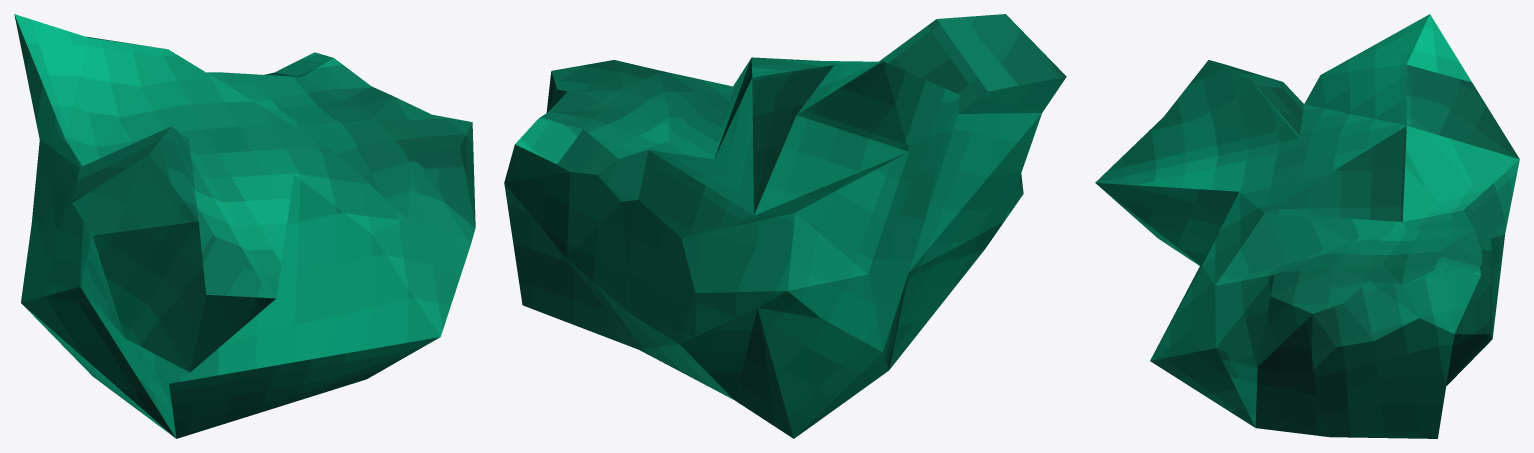
File: asteroid_large2.fbx
3 renders of one model, left to right at view 1: azimuth 30°, elevation 25°; view 2: azimuth 150°, elevation 25°; view 3: azimuth 270°, elevation 25°, orthographic. The views are drawn at different scales.
Visible parts, largest first — view 1: Cube; view 2: Cube; view 3: Cube.
Part boxes in pixels (left/top/right/bottom): Cube: left=14, top=14, right=475, bottom=438; Cube: left=504, top=14, right=1066, bottom=438; Cube: left=1095, top=14, right=1519, bottom=438.
Bounding box in the file's own units: 23 × 18.77 × 21.56.
